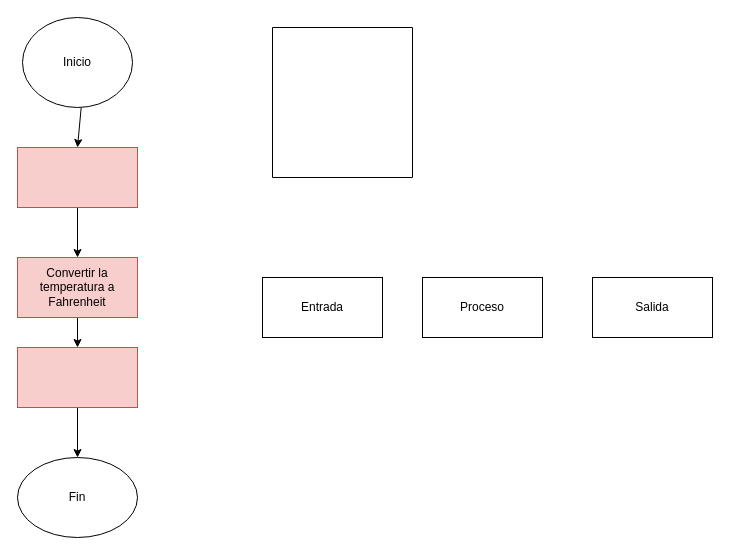
The diagram is 730 pixels wide and 555 high, and some of its shapes have lost their labels. Each missing label, with the centre of its shape:
Converción de Celsius a Fahrenhait: (342,102)
Imprimir Grados Fahrenheit: (77,377)
Pedir al usuario que introduzca una temperatura en Celsius: (77,177)
